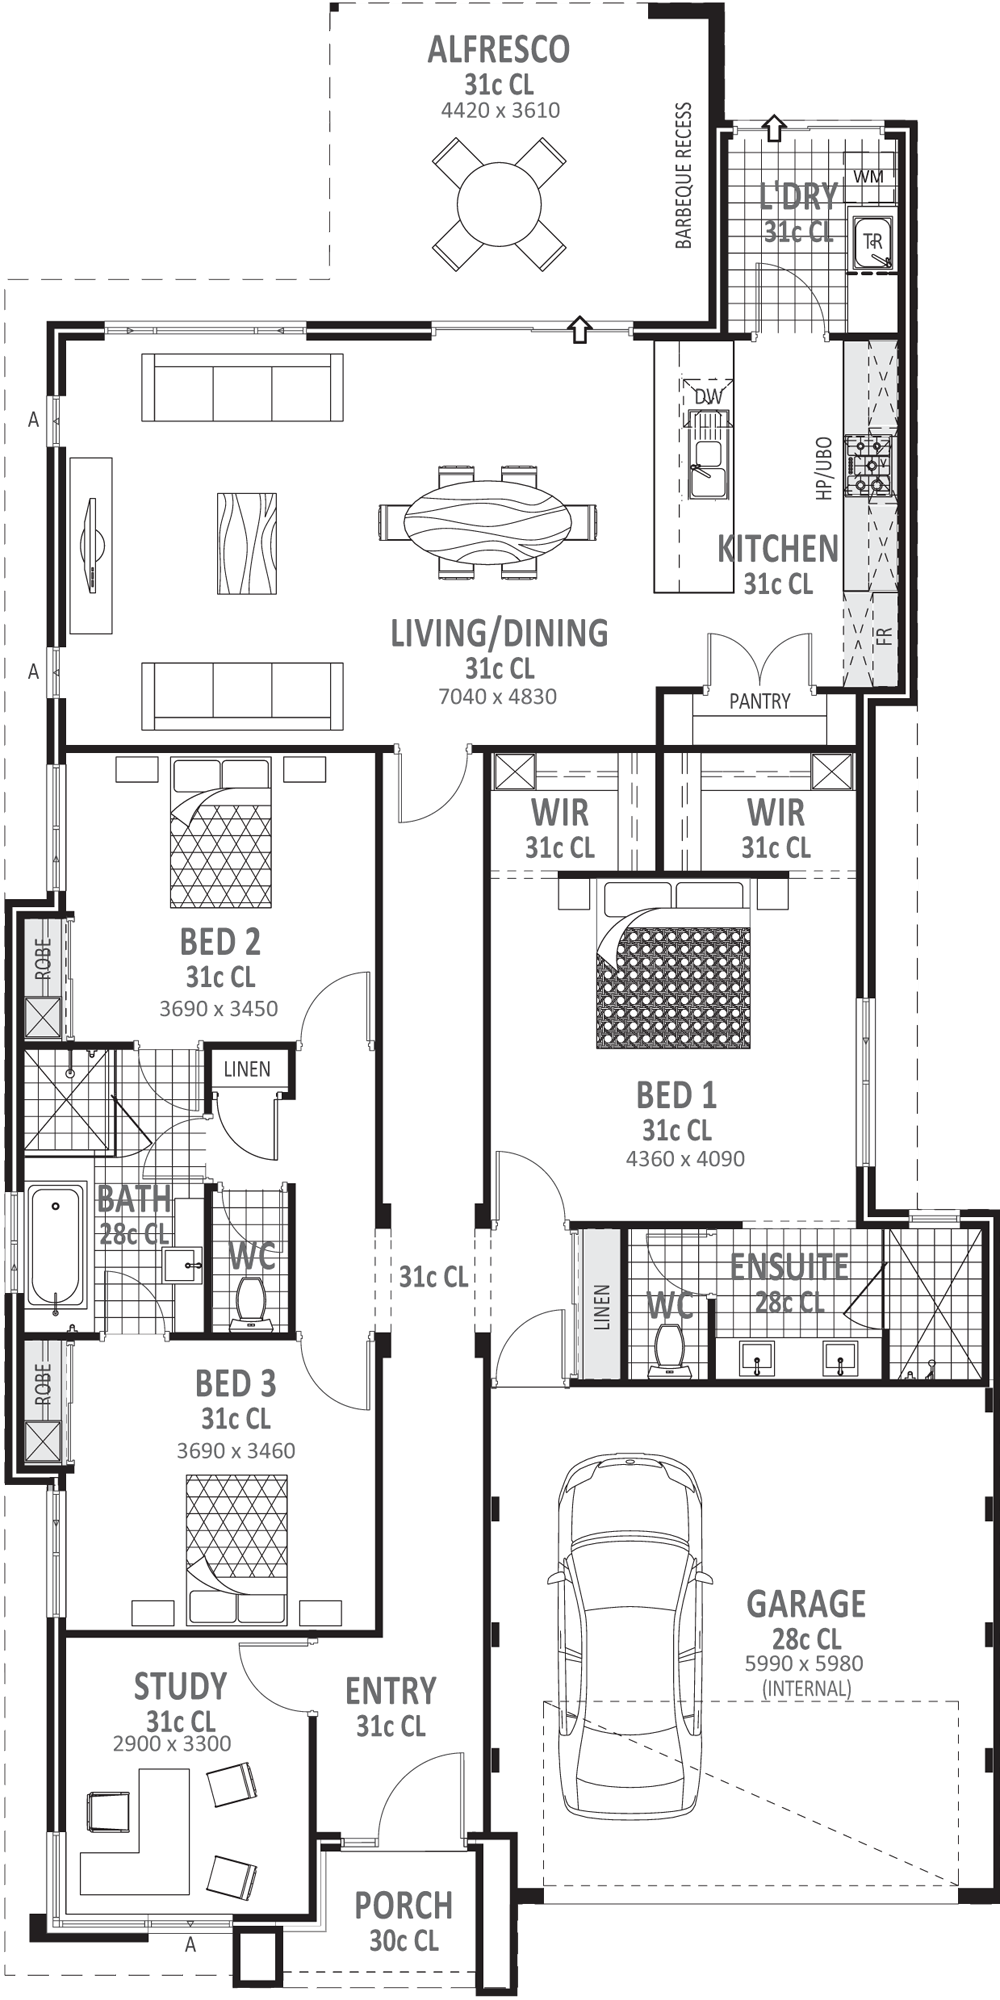door: (698, 617, 827, 686), (292, 952, 372, 1032), (207, 1111, 310, 1170), (298, 1348, 376, 1426), (497, 1298, 570, 1379), (385, 767, 473, 832), (492, 1142, 568, 1214), (232, 1639, 310, 1707)
room: (54, 329, 654, 742), (482, 745, 879, 1230), (45, 1332, 389, 1629), (657, 327, 904, 702), (54, 754, 385, 1032)
